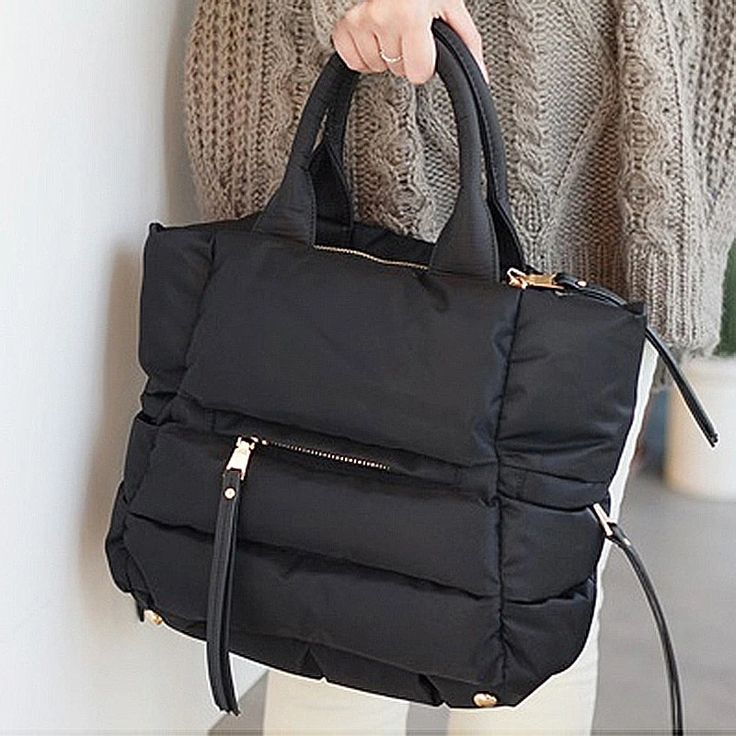nylon: (105, 18, 647, 710)
